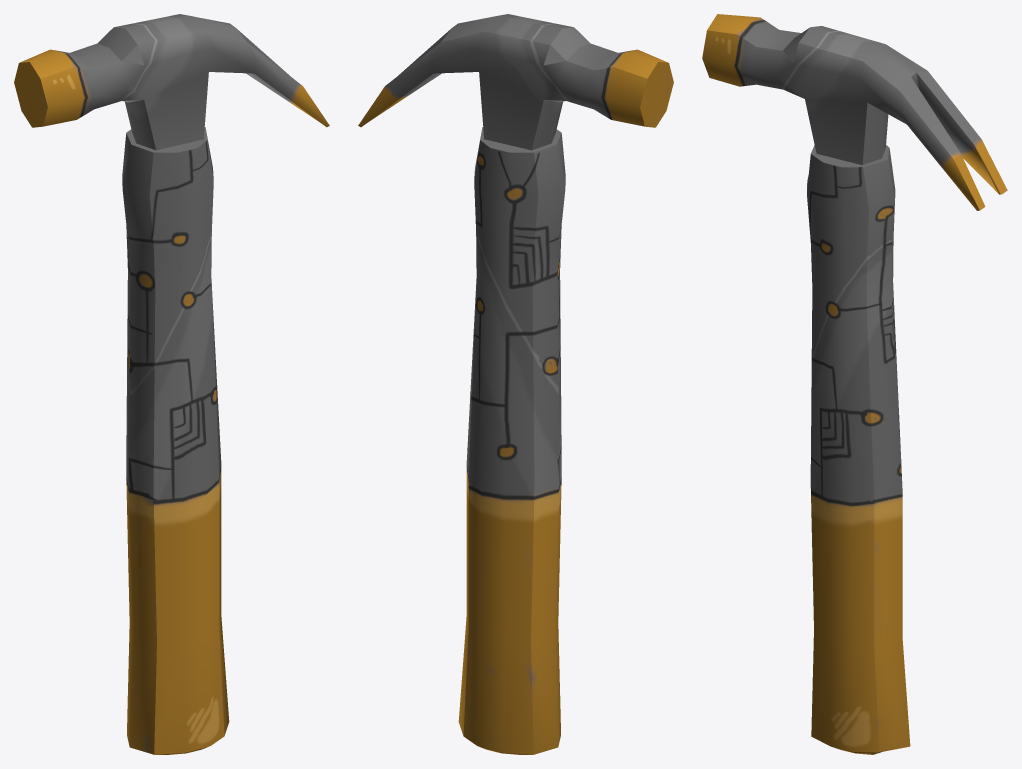
The model's file is hammer cube piece.fbx.
The picture shows the model from 3 angles, left to right: view 1: azimuth 30°, elevation 25°; view 2: azimuth 150°, elevation 25°; view 3: azimuth 330°, elevation 25°; orthographic projection. The views are drawn at different scales.
Visible parts, largest first — view 1: Hammer; view 2: Hammer; view 3: Hammer.
Boxes of the visible parts, <box> form: Hammer: <box>14,14,329,754</box>; Hammer: <box>358,14,673,754</box>; Hammer: <box>702,14,1007,754</box>.
Size of the model in its own units: 2.87 by 7 by 0.6803.
